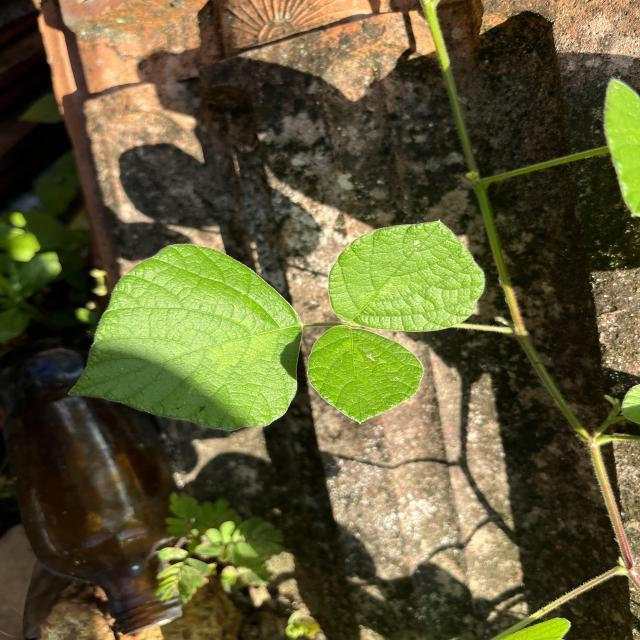Pseudarthria viscida: (63, 214, 488, 436)
